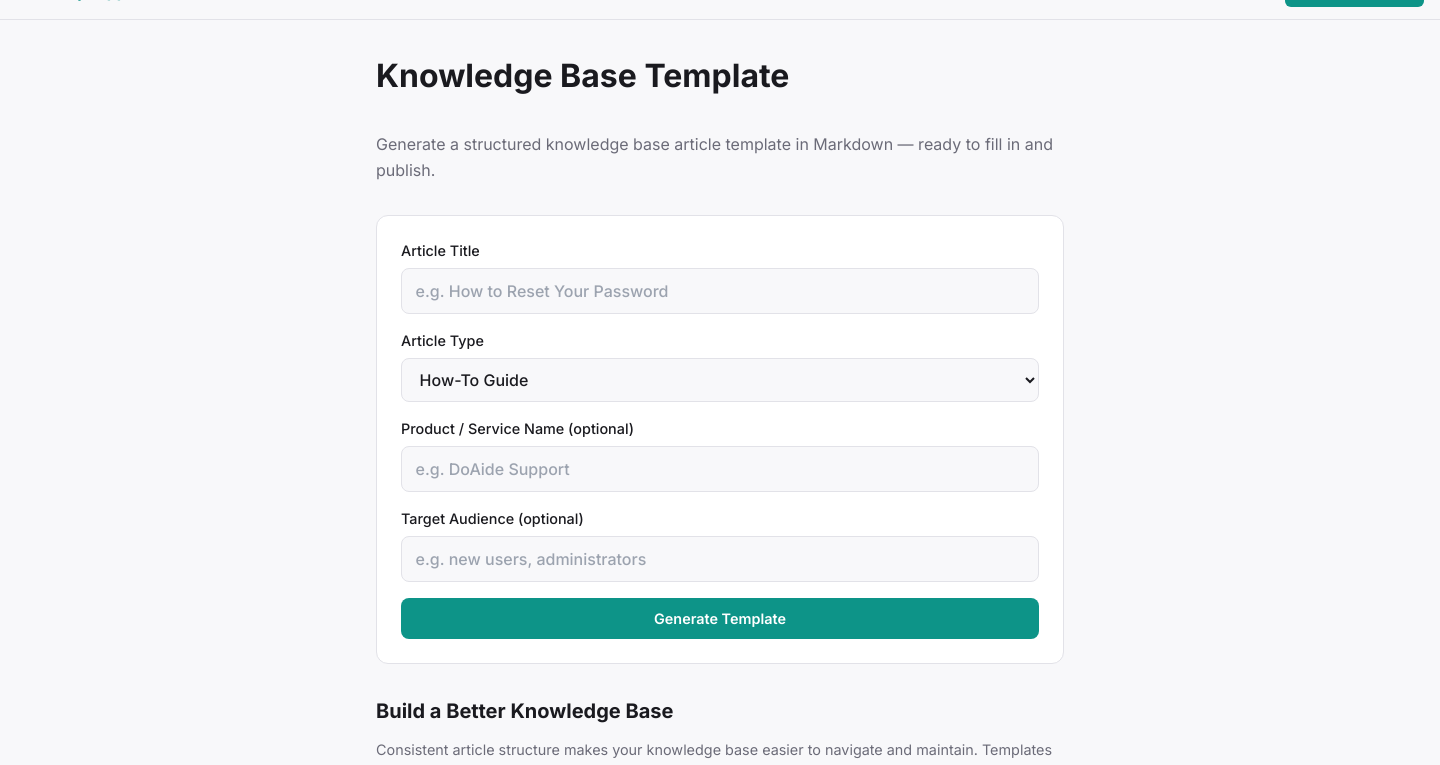
Test: KBTemplatePage › generates a template on button click
Type "Test Article" into the field with placeholder "e.g. How to Reset Your Password" at (720, 291), box [401, 268, 1039, 314]
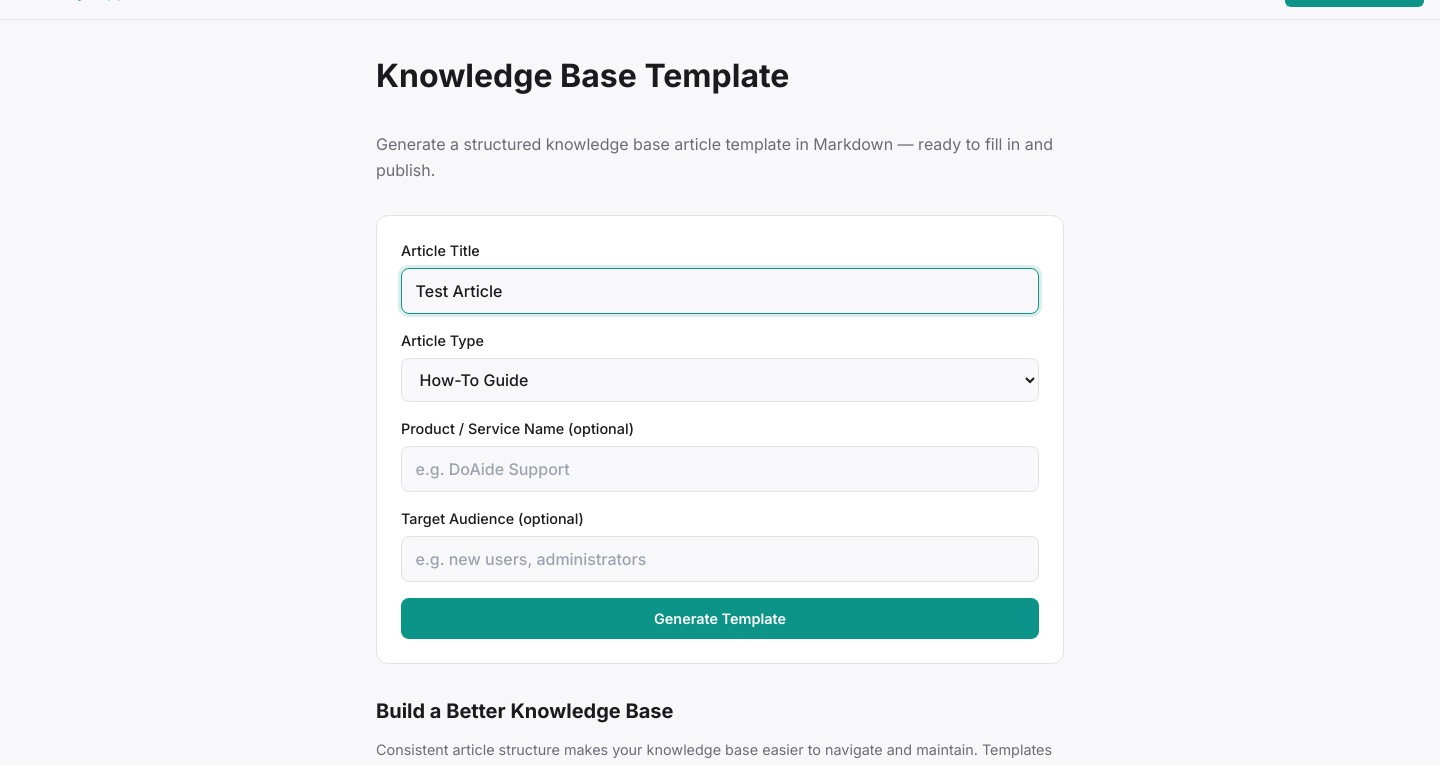
Click the button "Generate Template" at (720, 619), box [401, 598, 1039, 639]
(page scrolled)
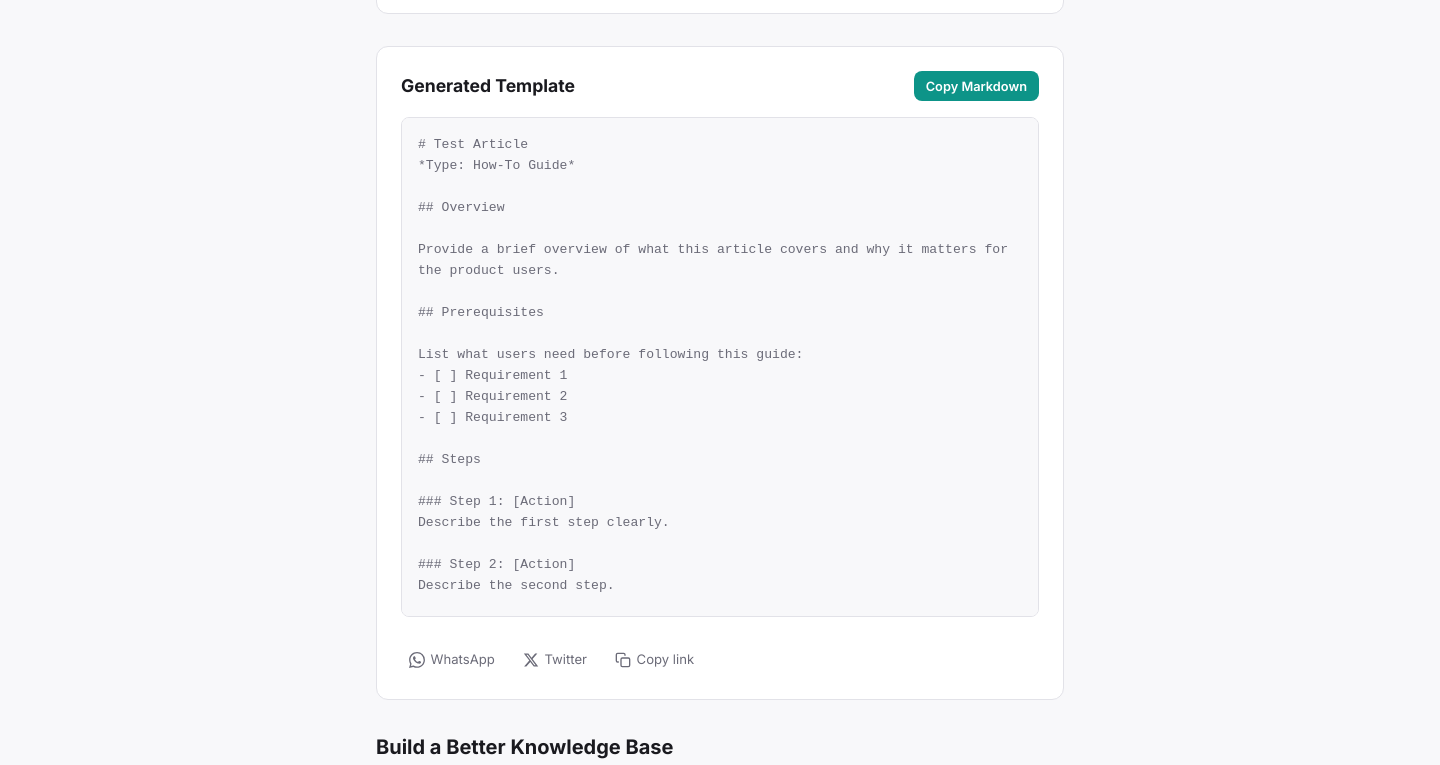
Check: the heading "Generated Template" is shown, box [401, 73, 575, 100]
